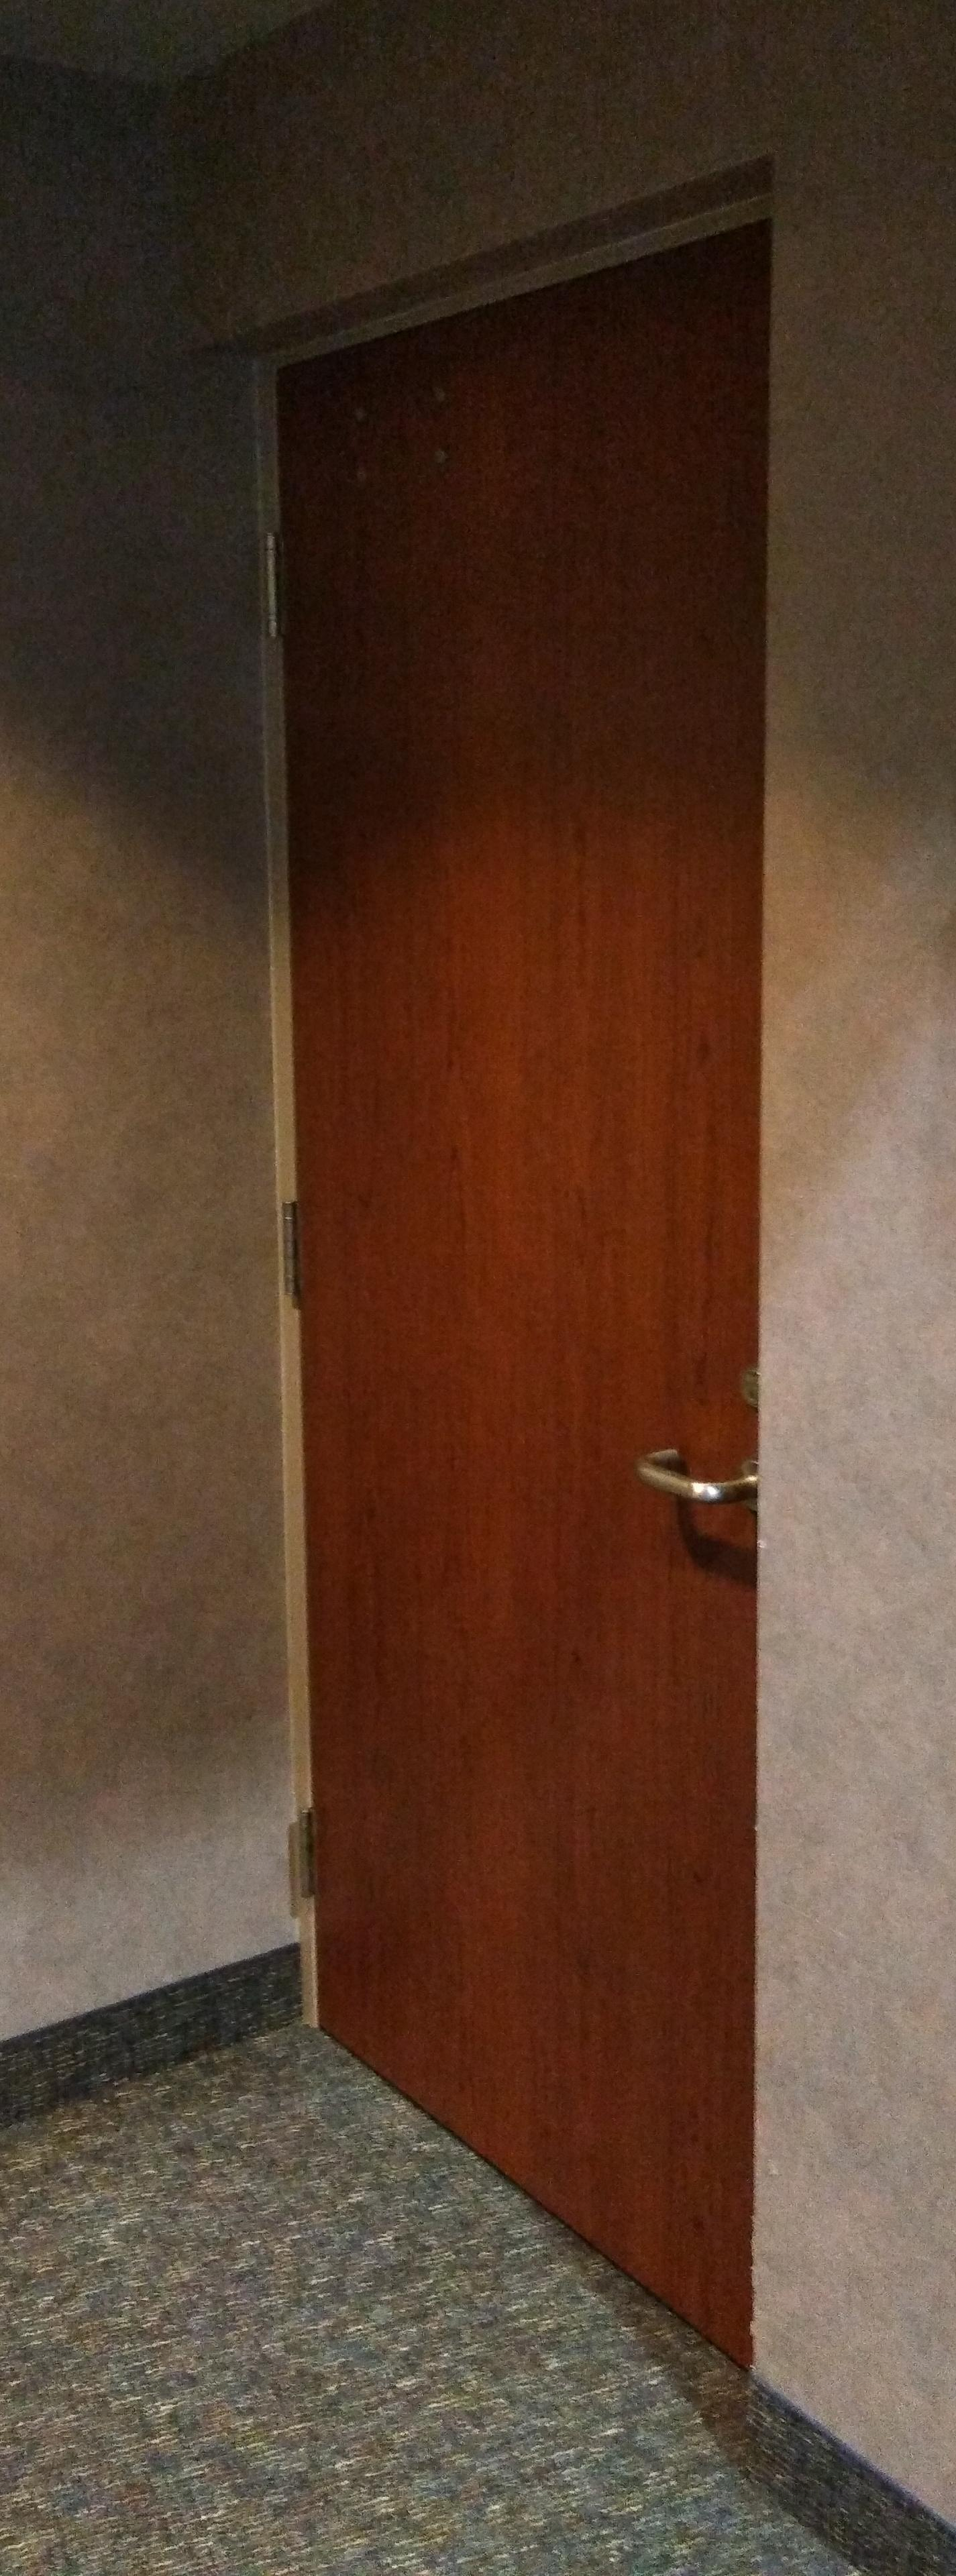door: (237, 166, 770, 2390)
